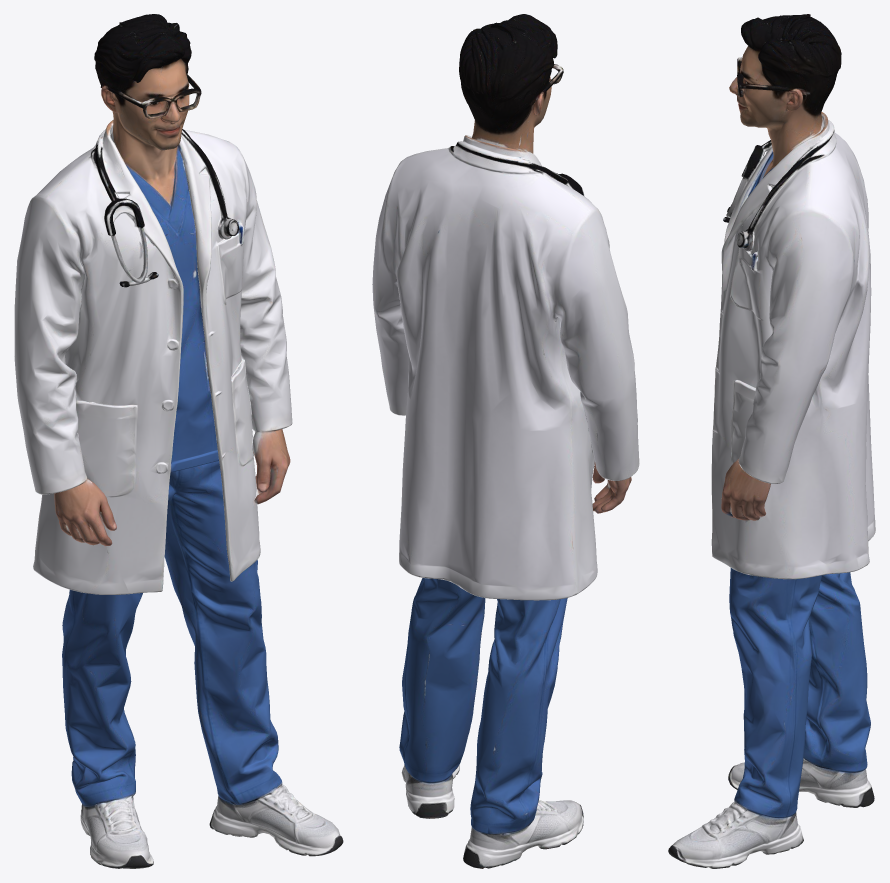
3 renders of one model, left to right at view 1: azimuth 30°, elevation 25°; view 2: azimuth 150°, elevation 25°; view 3: azimuth 270°, elevation 25°, orthographic. The views are drawn at different scales.
Visible parts, largest first — view 1: dr4; view 2: dr4; view 3: dr4.
Boxes of the visible parts, x1,y1,x2,y2 form: dr4: [14, 14, 343, 868]; dr4: [372, 14, 639, 868]; dr4: [668, 14, 875, 868].
Bounding box in the file's own units: 0.6515 × 1.9 × 0.453.
Materials: 1 (1 with a texture image).
